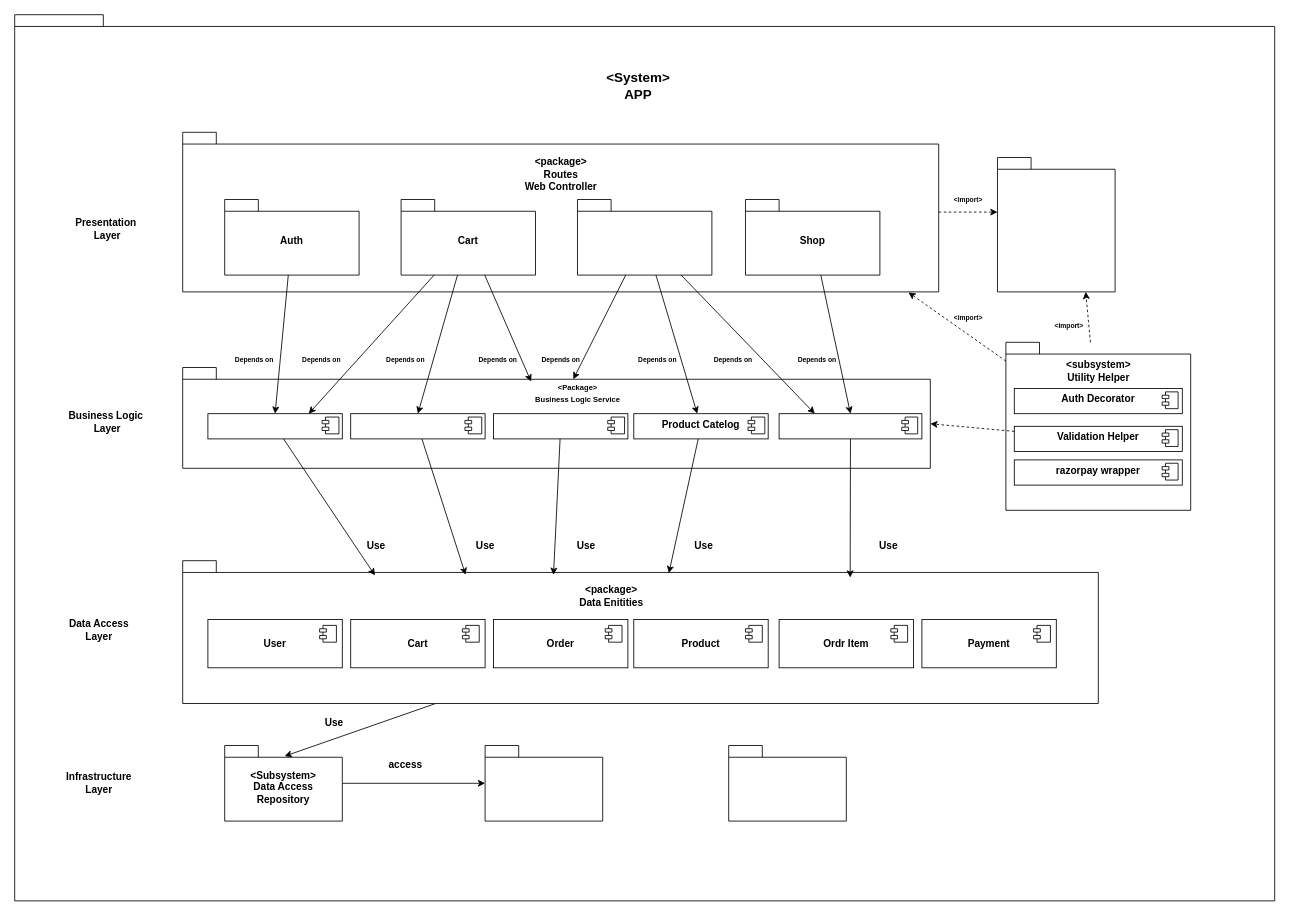
Some shapes in this 1289 by 916 pixel diagram are drawn without their labels. Each missing label, with the centre of its shape:
"<Configuration> .env" belongs at (x=787, y=783).
"<presistance> Database" belongs at (x=543, y=783).
"<subsystem> Templates HTML Views" belongs at (x=1056, y=224).
"Cart Service" belongs at (x=417, y=426).
"Checkout" belongs at (x=644, y=237).
"Order Service" belongs at (x=560, y=426).
"Payment Processer" belongs at (x=850, y=426).
"User Service" belongs at (x=274, y=426).
